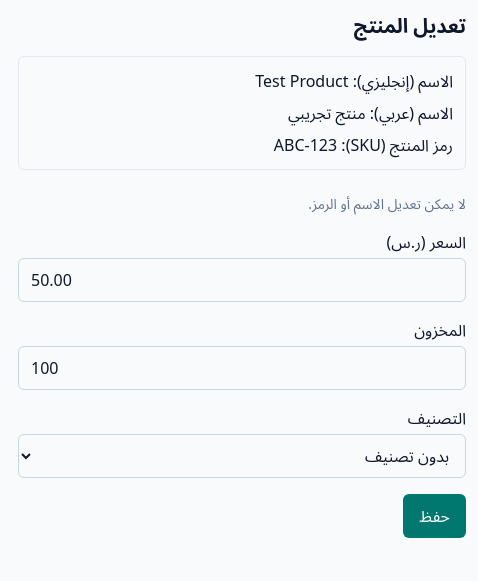
Test: ProductEditPage › invalid price shows errMoney with aria-invalid in Arabic
Expected: the text "لا يمكن تعديل الاسم أو الرمز." is shown, [308,194,466,213]
Replace the text in the field labelled "السعر (ر.س)" with "-5": [242, 280] box [18,258,466,302]
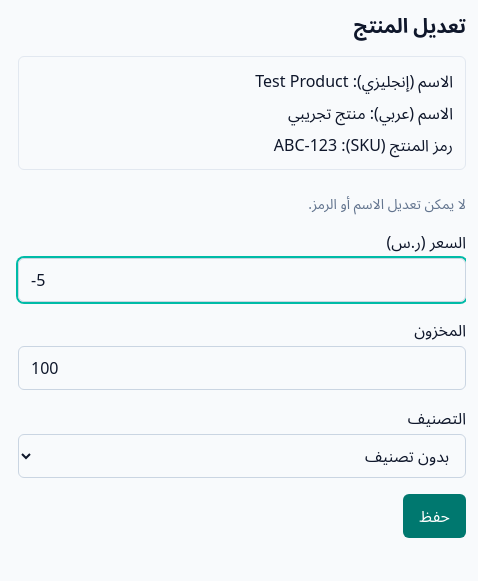
Click the button "حفظ": [435, 516] box [403,494,466,538]
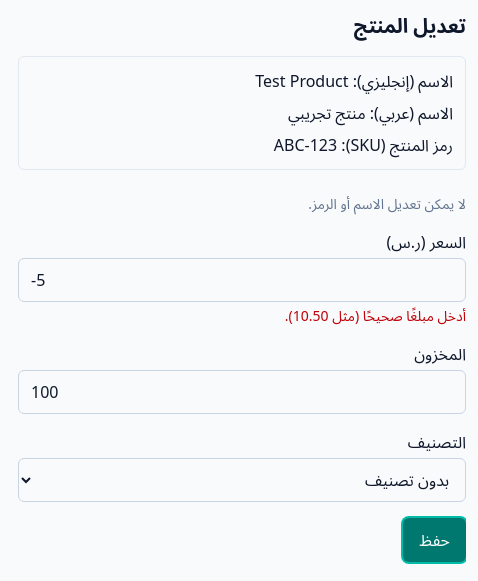
Result: the text "أدخل مبلغًا صحيحًا (مثل 10.50)." is shown at [285,306,466,325]
